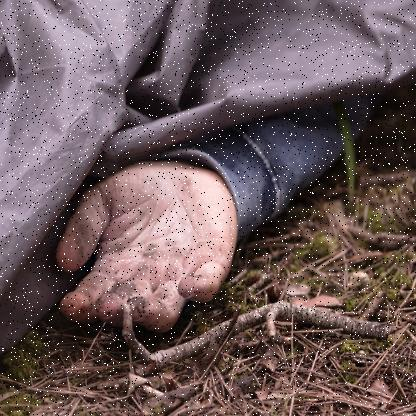hand: (46, 151, 239, 344)
